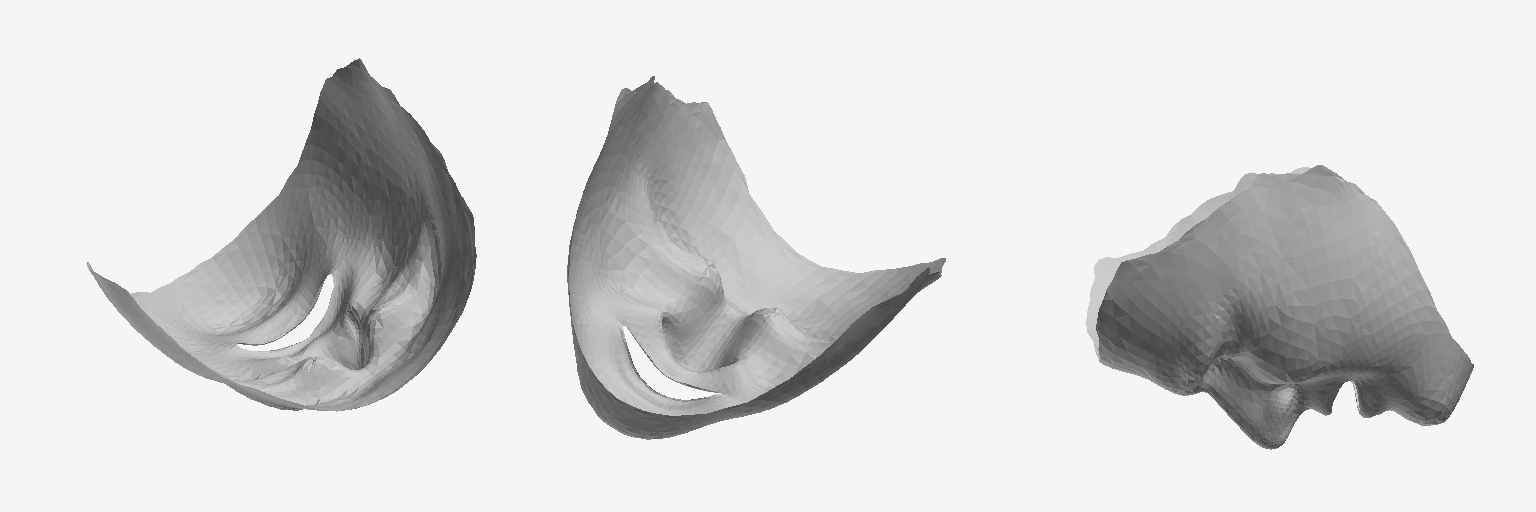
The model's file is face_gab_sfm25.obj.
The picture shows the model from 3 angles: view 1: azimuth 30°, elevation 25°; view 2: azimuth 150°, elevation 25°; view 3: azimuth 270°, elevation 25°; orthographic projection.
Size of the model in its own units: 164 by 155 by 179.